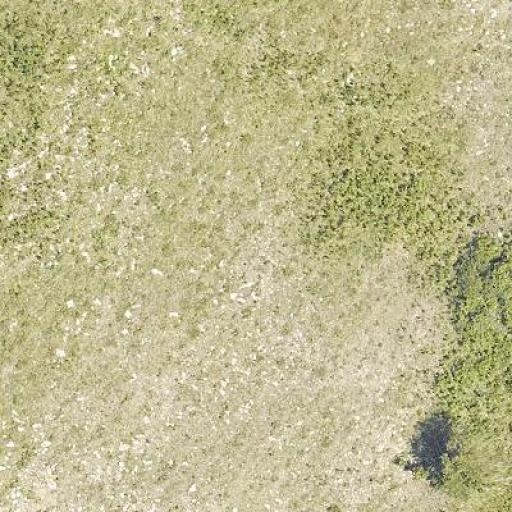tree-top: (415, 422, 502, 502)
